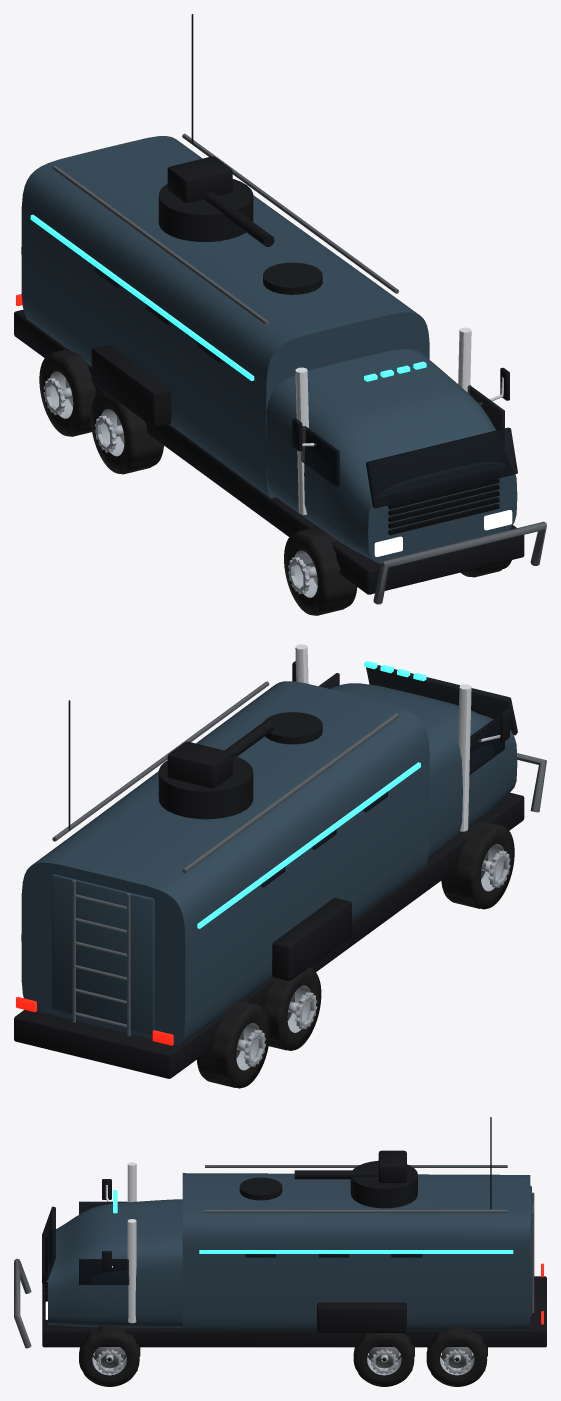
Rendered from tech-transport.glb.
3 renders of one model, top to bottom at view 1: azimuth 30°, elevation 25°; view 2: azimuth 150°, elevation 25°; view 3: azimuth 270°, elevation 25°, orthographic. The views are drawn at different scales.
Parts seen in each view (by area): view 1: Body, WheelFL, WheelML, WheelRL; view 2: Body, WheelFL, WheelRL, WheelML; view 3: Body, WheelFR, WheelRR, WheelMR.
Boxes of the visible parts, <box> form: Body: <box>14,14,546,604</box>; WheelFL: <box>284,526,357,615</box>; WheelML: <box>90,391,163,474</box>; WheelRL: <box>39,348,95,436</box>; Body: <box>14,644,546,1078</box>; WheelFL: <box>441,820,514,909</box>; WheelRL: <box>197,1000,269,1088</box>; WheelML: <box>264,967,321,1050</box>; Body: <box>14,1117,546,1356</box>; WheelFR: <box>79,1325,140,1386</box>; WheelRR: <box>426,1326,487,1386</box>; WheelMR: <box>353,1333,414,1386</box>.
Size of the model in its own units: 3.1 by 5.1 by 9.51.
